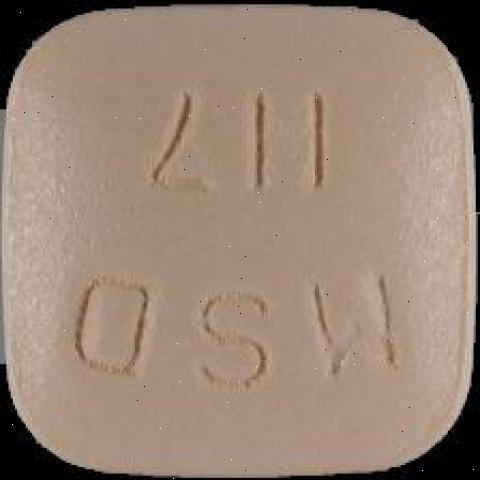Pill: (0, 0, 475, 477)
